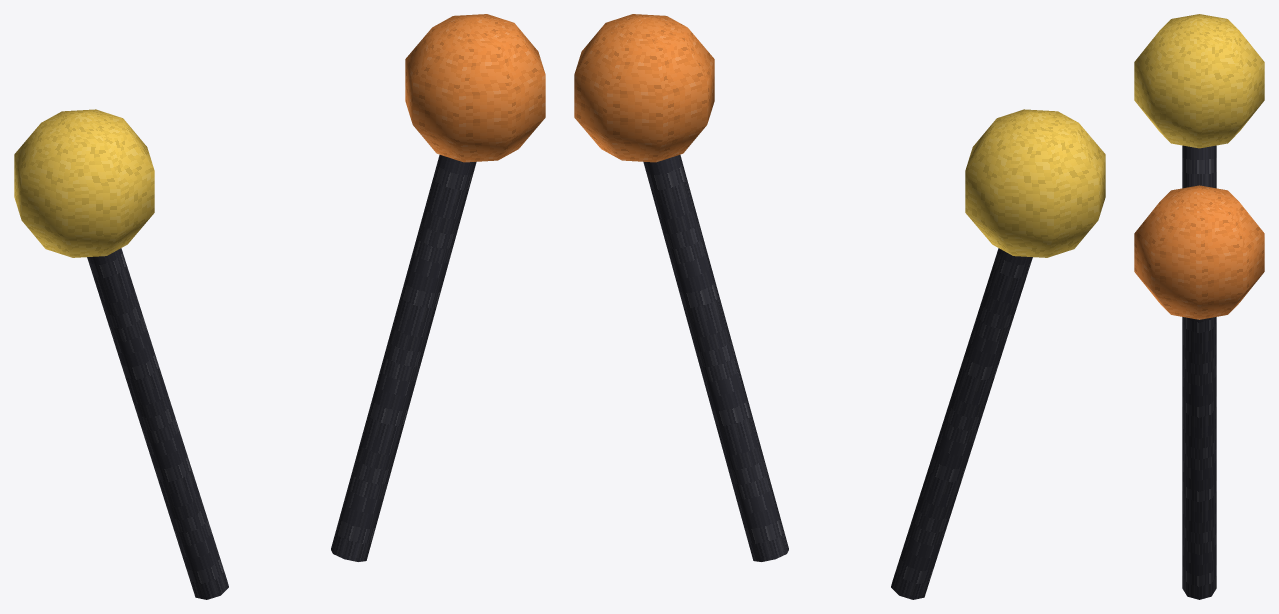
Rendered from antenas.glb.
3 views of the same model, side by side, from view 1: azimuth 30°, elevation 25°; view 2: azimuth 150°, elevation 25°; view 3: azimuth 270°, elevation 25° (orthographic). The views are drawn at different scales.
Parts seen in each view (by area): view 1: _MeshInstance3D_14, _MeshInstance3D_12, _MeshInstance3D_13, _MeshInstance3D_11; view 2: _MeshInstance3D_14, _MeshInstance3D_12, _MeshInstance3D_13, _MeshInstance3D_11; view 3: _MeshInstance3D_12, _MeshInstance3D_14, _MeshInstance3D_13, _MeshInstance3D_11.
Boxes of the visible parts, bbox=[...] form: _MeshInstance3D_14: bbox=[405, 14, 545, 162]; _MeshInstance3D_12: bbox=[14, 109, 154, 257]; _MeshInstance3D_13: bbox=[331, 155, 476, 561]; _MeshInstance3D_11: bbox=[87, 248, 228, 599]; _MeshInstance3D_14: bbox=[574, 14, 714, 162]; _MeshInstance3D_12: bbox=[965, 109, 1105, 257]; _MeshInstance3D_13: bbox=[643, 155, 788, 561]; _MeshInstance3D_11: bbox=[891, 248, 1032, 599]; _MeshInstance3D_12: bbox=[1134, 14, 1264, 148]; _MeshInstance3D_14: bbox=[1134, 185, 1264, 319]; _MeshInstance3D_13: bbox=[1182, 317, 1216, 599]; _MeshInstance3D_11: bbox=[1182, 145, 1216, 188].
Bounding box in the file's own units: 0.1564 × 0.1476 × 0.038.
3 materials, 3 textured.
